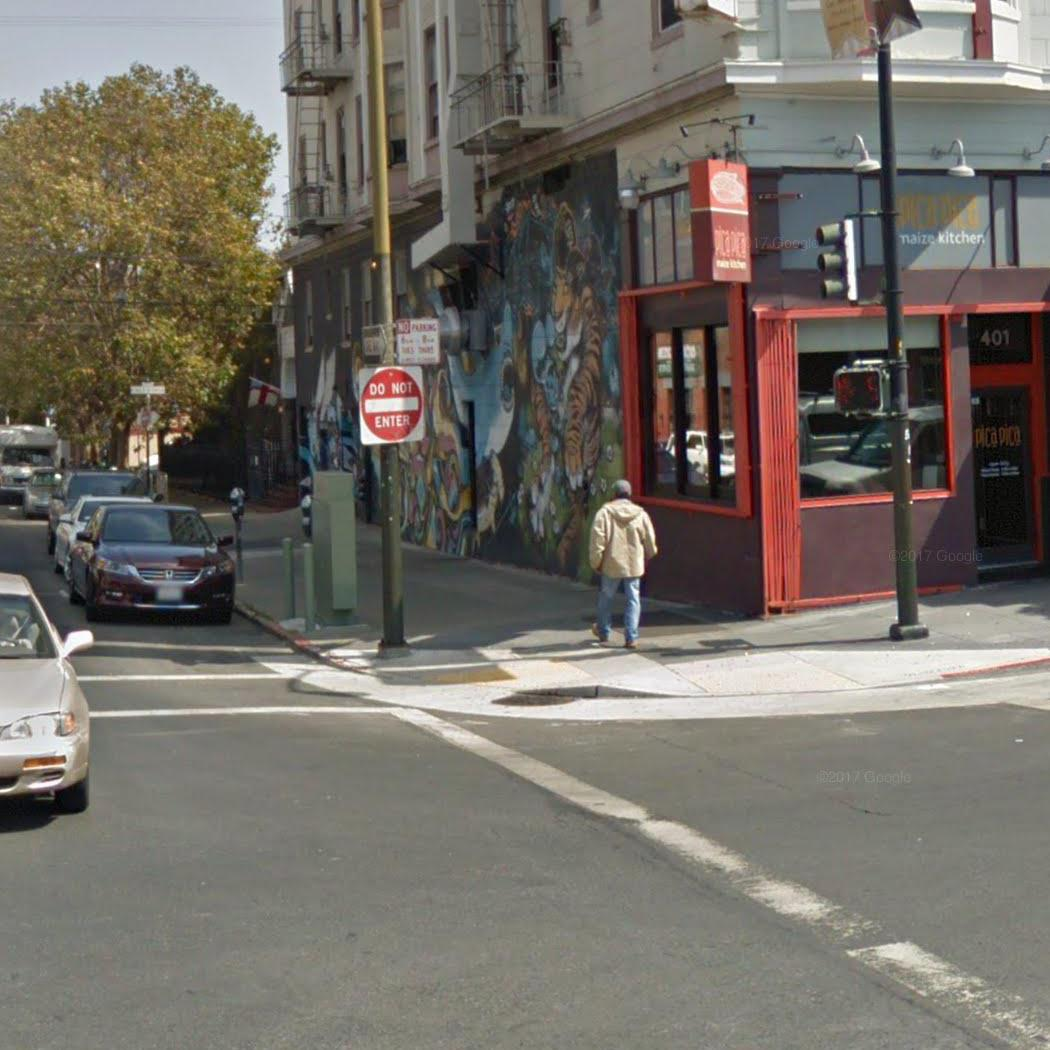No Parking: (394, 317, 442, 367)
